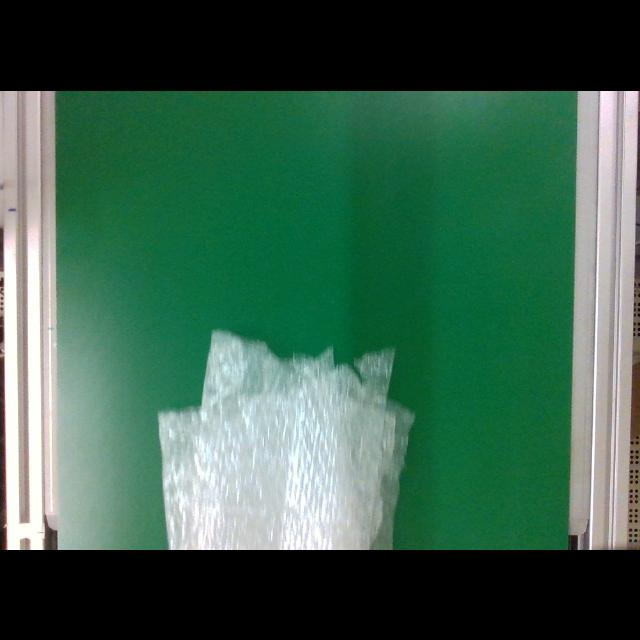scrap_plastic: (156, 328, 414, 550)
